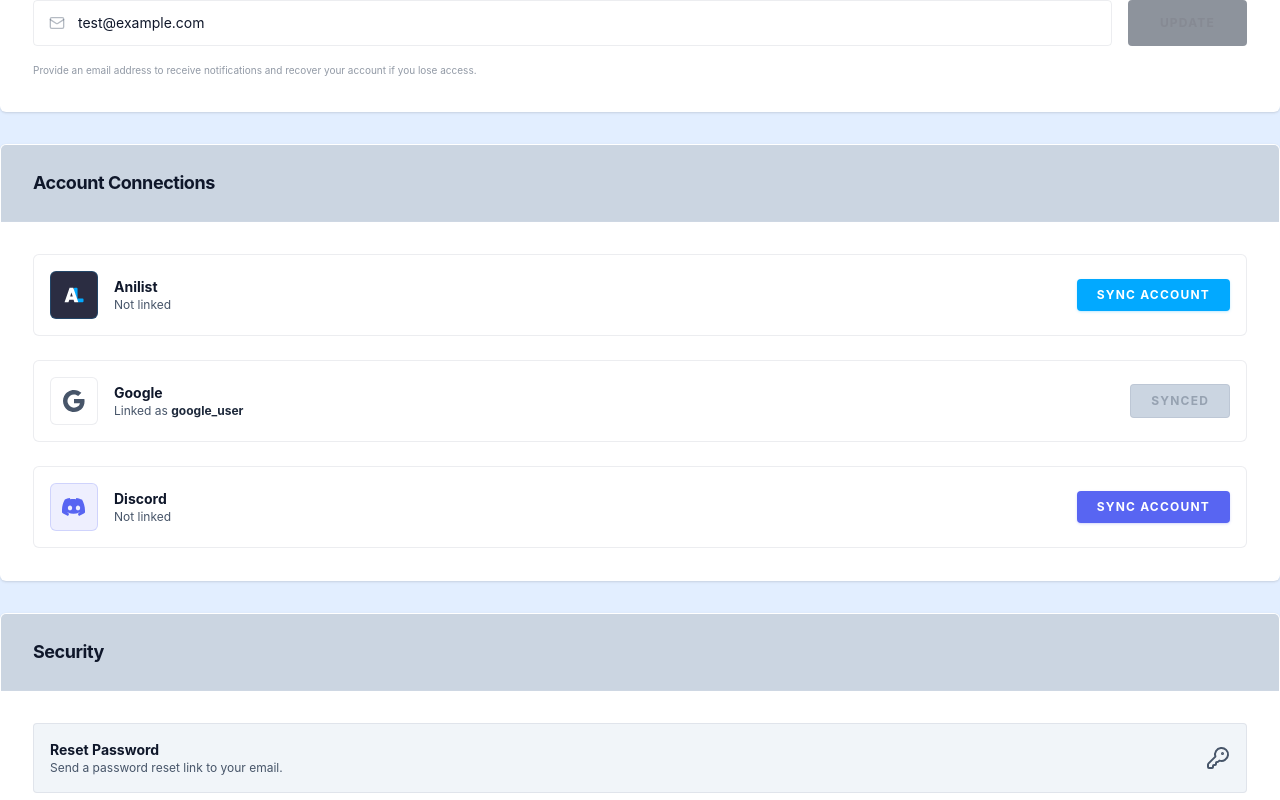
Test case: AccountSettings Component › should handle unlinking a social account
(page scrolled)
Click the button "Synced".
click(1180, 400)  # box [1130,384,1230,418]
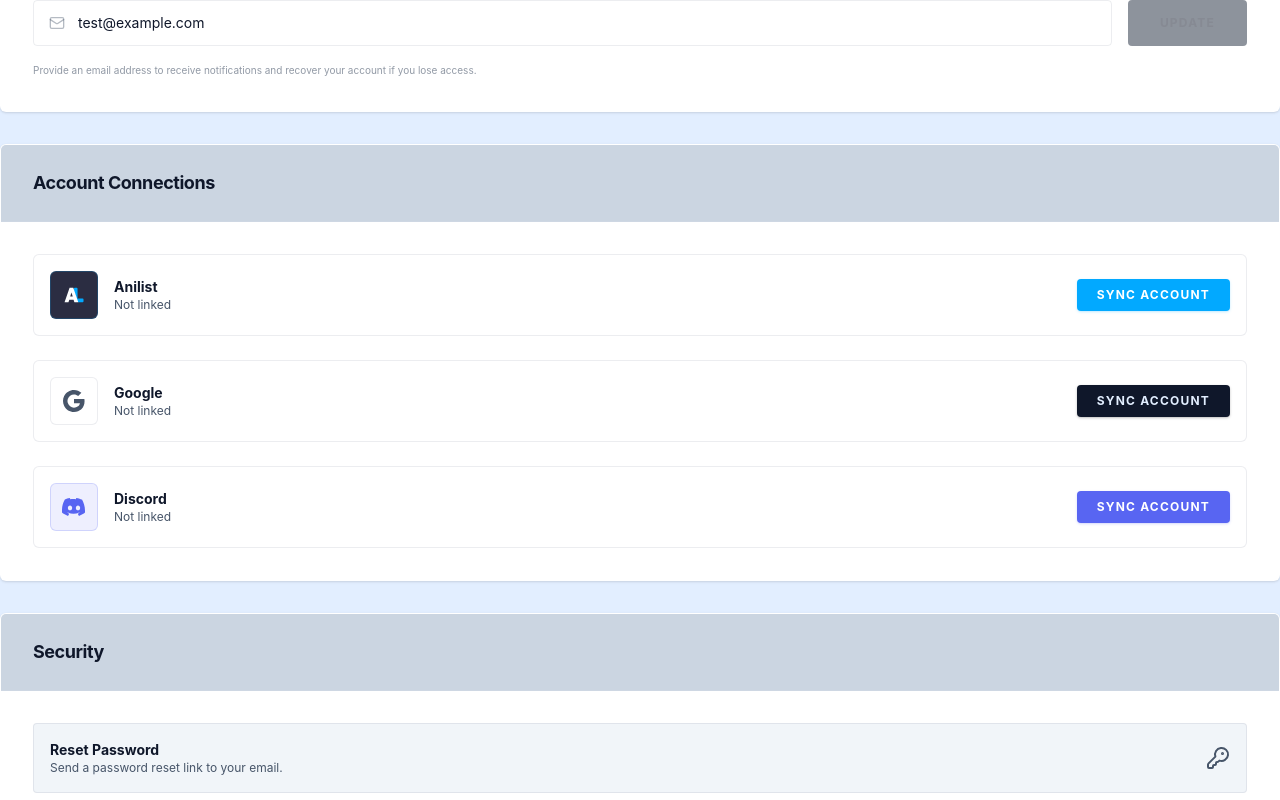
Expected: the number of buttons "Sync account" is 3, [1077,278,1230,310]; [1077,384,1230,416]; [1077,490,1230,522]
Result: the button "Synced" is gone
